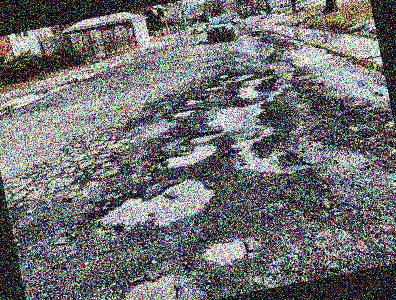pothole: (89, 170, 222, 238), (115, 266, 187, 300), (152, 139, 221, 171), (201, 233, 251, 266), (166, 104, 202, 120), (189, 128, 224, 142), (180, 92, 206, 106), (203, 82, 224, 92)
